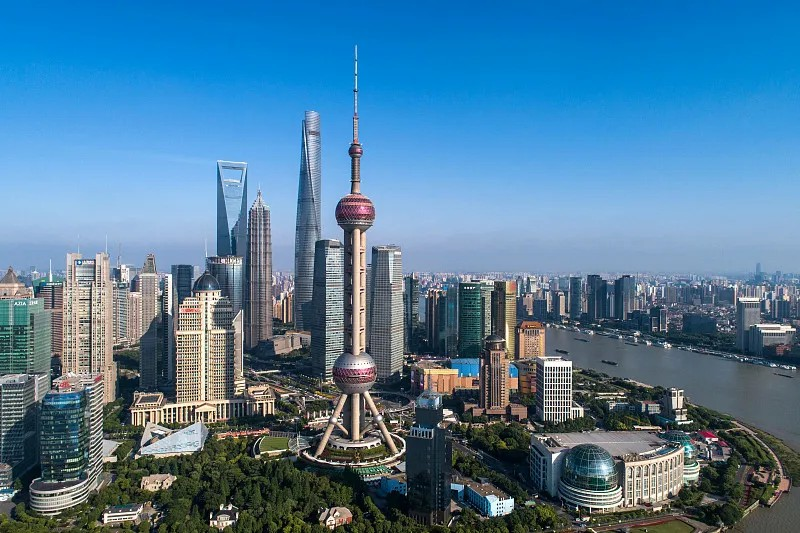Oriental: (313, 44, 399, 460)
